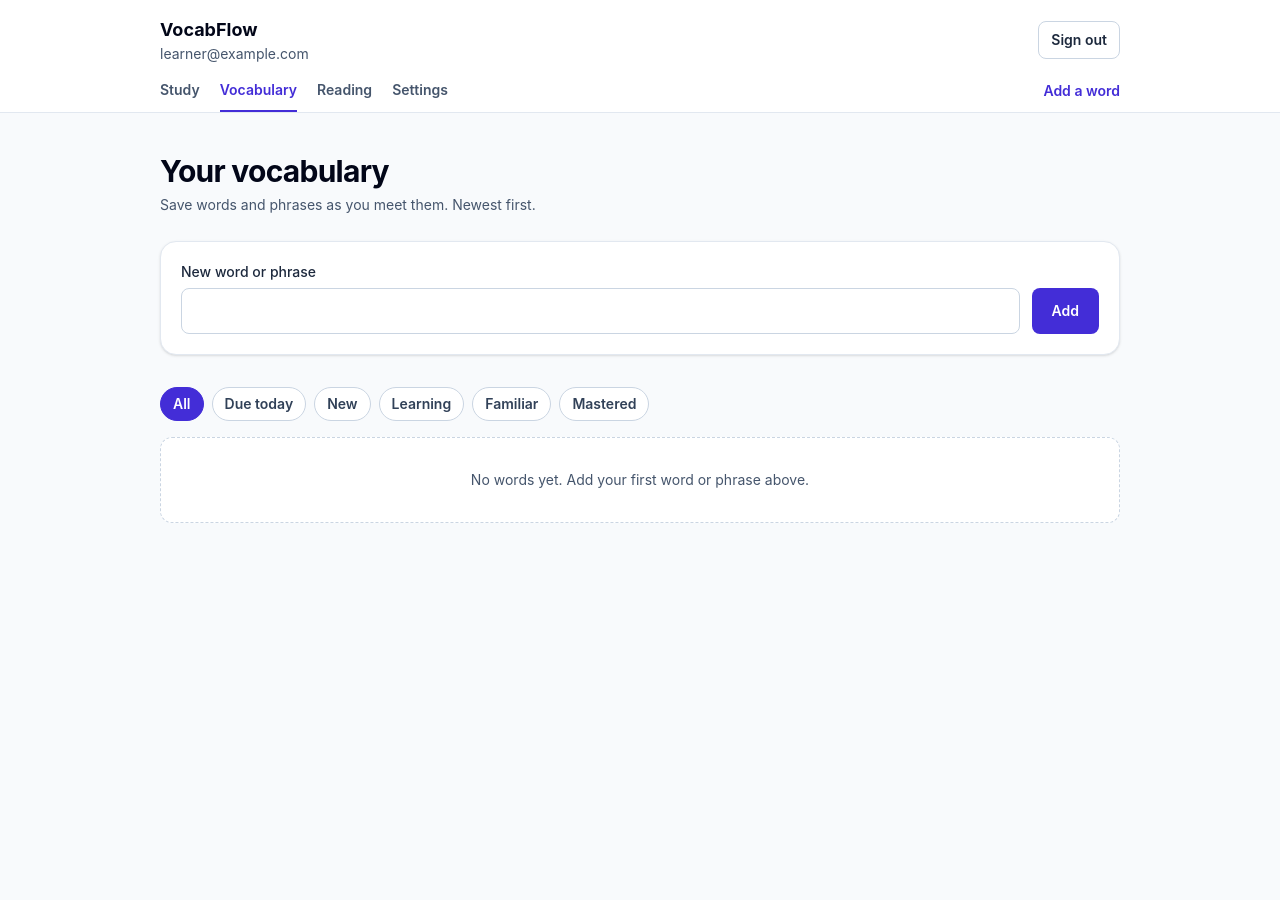
signs the user out when a mutation is rejected with a 401
In the field labelled "New word or phrase": (600, 311) left=181, top=288, right=1020, bottom=334, type "overwhelmed"
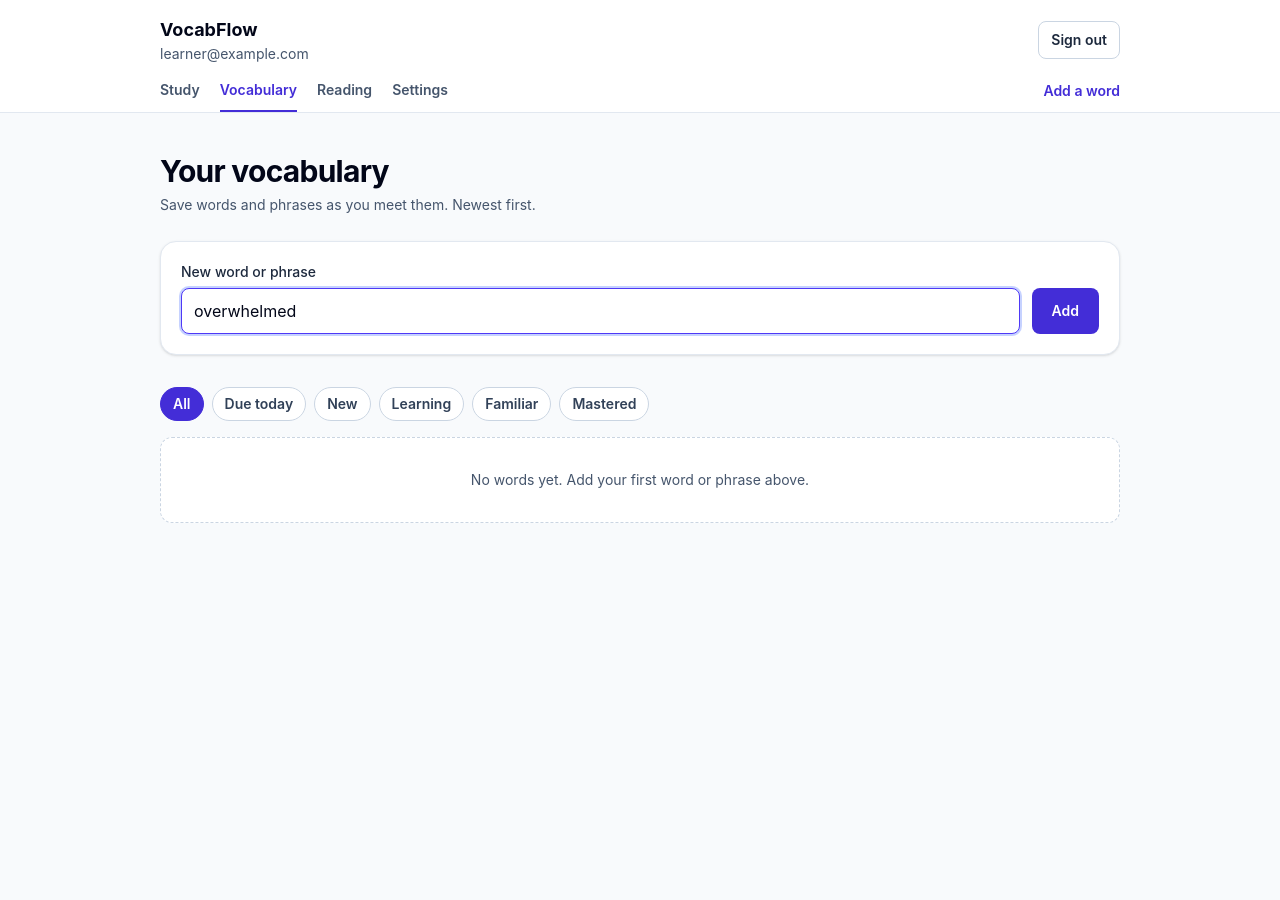
Click the button "Add": (1065, 311) left=1032, top=288, right=1099, bottom=334
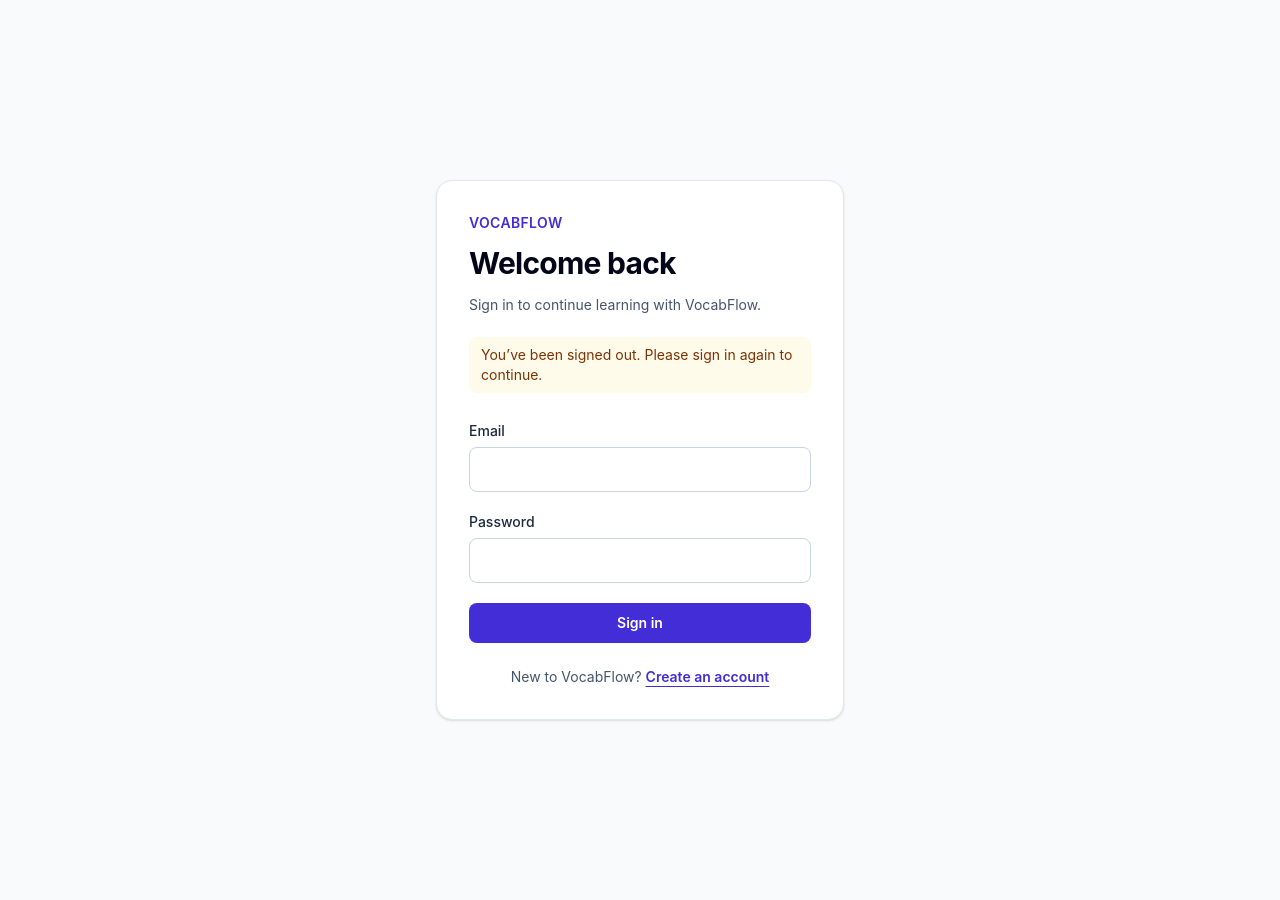
Expected: the heading "Welcome back" is shown, left=469, top=245, right=676, bottom=281
Expected: the message reads "You’ve been signed out. Please sign in again to continue.", left=481, top=346, right=792, bottom=383
